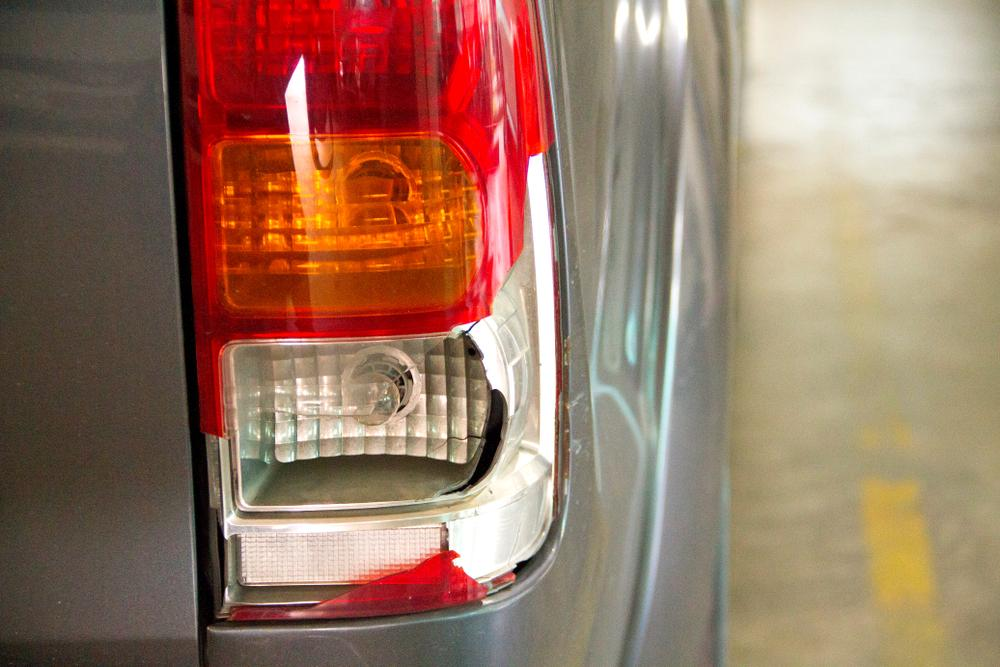lamp broken: (168, 0, 562, 624)
